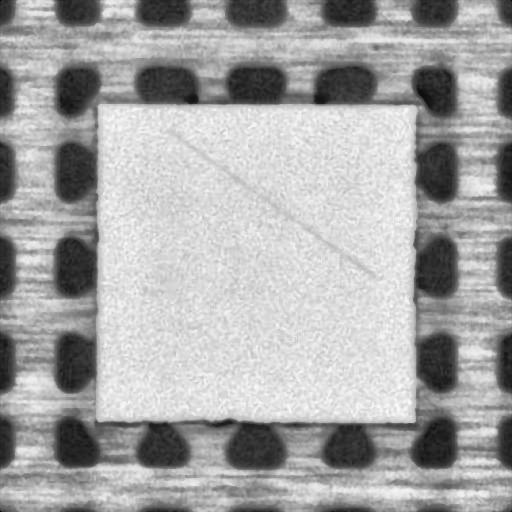DIE_CRACK: (167, 130, 373, 276)
